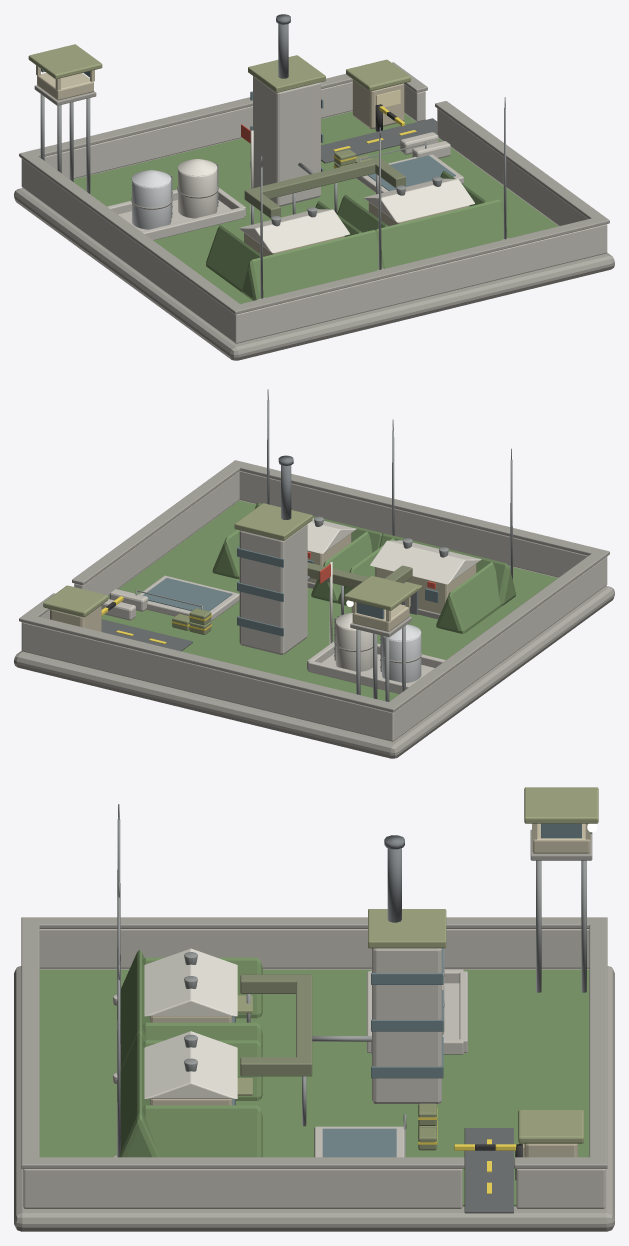
The model's file is tnt_7.glb.
The picture shows the model from 3 angles, top to bottom: view 1: azimuth 30°, elevation 25°; view 2: azimuth 150°, elevation 25°; view 3: azimuth 270°, elevation 25°; orthographic projection. The views are drawn at different scales.
Visible parts, largest first — view 1: Cube.001, Cube, Cube.072, Cube.052, Cube.070, Cube.074, prism, prism.004, Cube.078, Cube.073, Cube.075, prism.007 (+26 smaller); view 2: Cube.001, Cube, Cube.070, Cube.072, Cube.052, Cube.074, Cube.078, Cube.071, Cube.073, Cube.075, prism.001, prism.003 (+20 smaller); view 3: Cube.001, Cube, Cube.078, Cube.074, Cube.052, prism.006, Cube.075, prism.003, prism.007, Cube.079, Cube.073, Cube.071 (+29 smaller).
Boxes of the visible parts, x1,y1,x2,y2 form: Cube.001: (73, 111, 558, 303); Cube: (14, 111, 614, 360); Cube.072: (231, 224, 607, 343); Cube.052: (253, 76, 320, 206); Cube.070: (21, 81, 352, 188); Cube.074: (24, 160, 231, 340); prism: (242, 230, 383, 300); prism.004: (376, 199, 509, 268); Cube.078: (437, 108, 587, 225); Cube.073: (228, 215, 609, 314); Cube.075: (22, 153, 242, 310); prism.007: (363, 178, 474, 222); Cube.001: (101, 500, 557, 701); Cube: (14, 500, 614, 758); Cube.070: (21, 622, 396, 741); Cube.072: (239, 470, 607, 586); Cube.052: (239, 524, 307, 654); Cube.074: (396, 559, 603, 738); Cube.078: (74, 471, 239, 595); Cube.071: (19, 613, 400, 712); Cube.073: (230, 460, 609, 558); Cube.075: (386, 551, 606, 709); prism.001: (436, 562, 501, 633); prism.003: (370, 540, 481, 584); Cube.001: (39, 969, 589, 1206); Cube: (14, 966, 614, 1231); Cube.078: (32, 1169, 462, 1208); Cube.074: (39, 929, 589, 968); Cube.052: (372, 948, 441, 1103); prism.006: (142, 1105, 262, 1157); Cube.075: (29, 917, 598, 928); prism.003: (144, 948, 237, 1016); prism.007: (144, 1031, 237, 1098); Cube.079: (29, 1157, 464, 1168); Cube.073: (21, 917, 39, 1168); Cube.071: (589, 917, 607, 1168).
Size of the model in its own units: 2.92 by 1.43 by 2.92.
